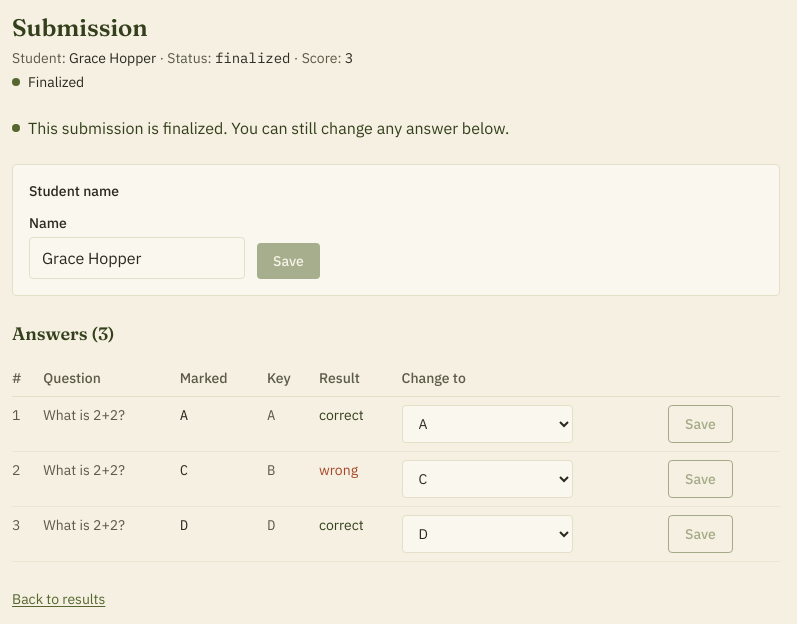
Test: submission review — full answer sheet › edits a non-flagged answer and refreshes from the response
Expected: the element with test id "answer-sheet" is shown, [12,320,780,562]
Select "B" in the 1st dropdown named "Correct option" at x=487, y=424, box [402,405,572,443]
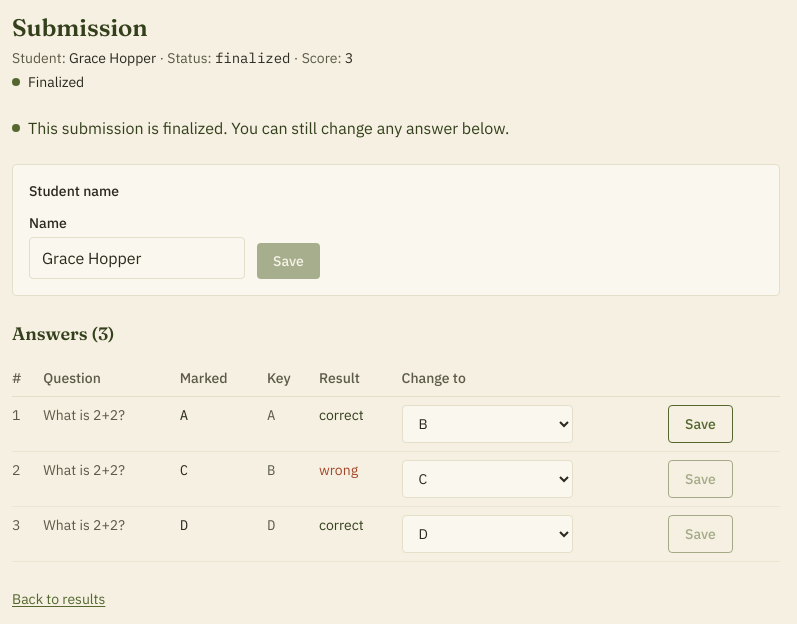
Click the 2nd button "Save" at x=700, y=424, box [668,405,733,443]
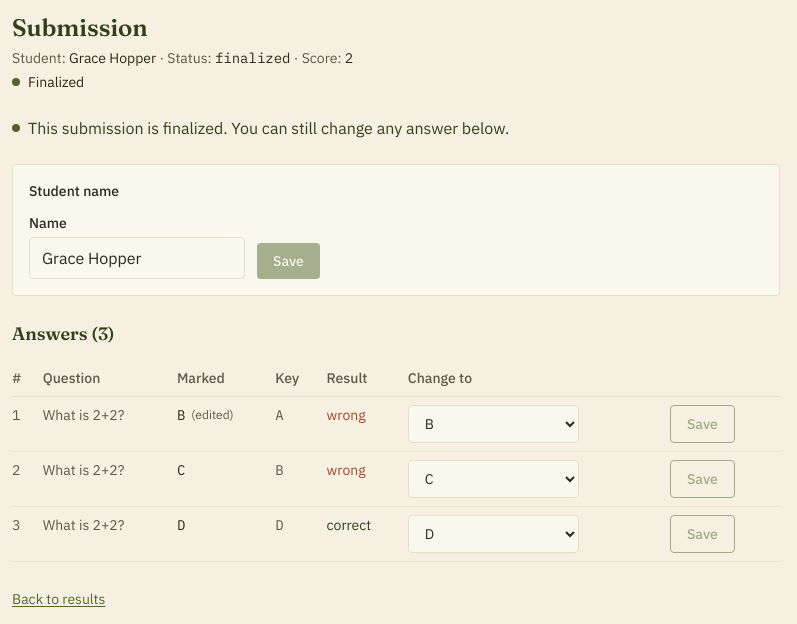
Expected: the text "(edited)" is shown, [191,407,234,423]
